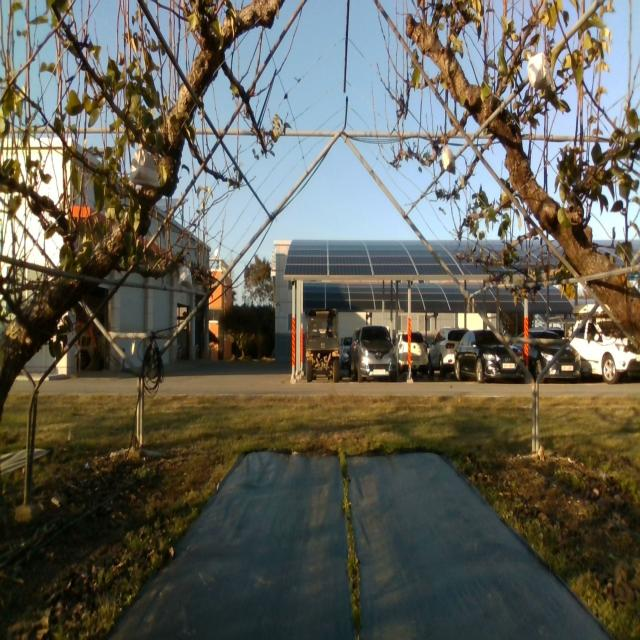pearbags: (130, 141, 161, 189), (526, 51, 556, 92), (178, 259, 193, 288), (442, 144, 455, 175)
